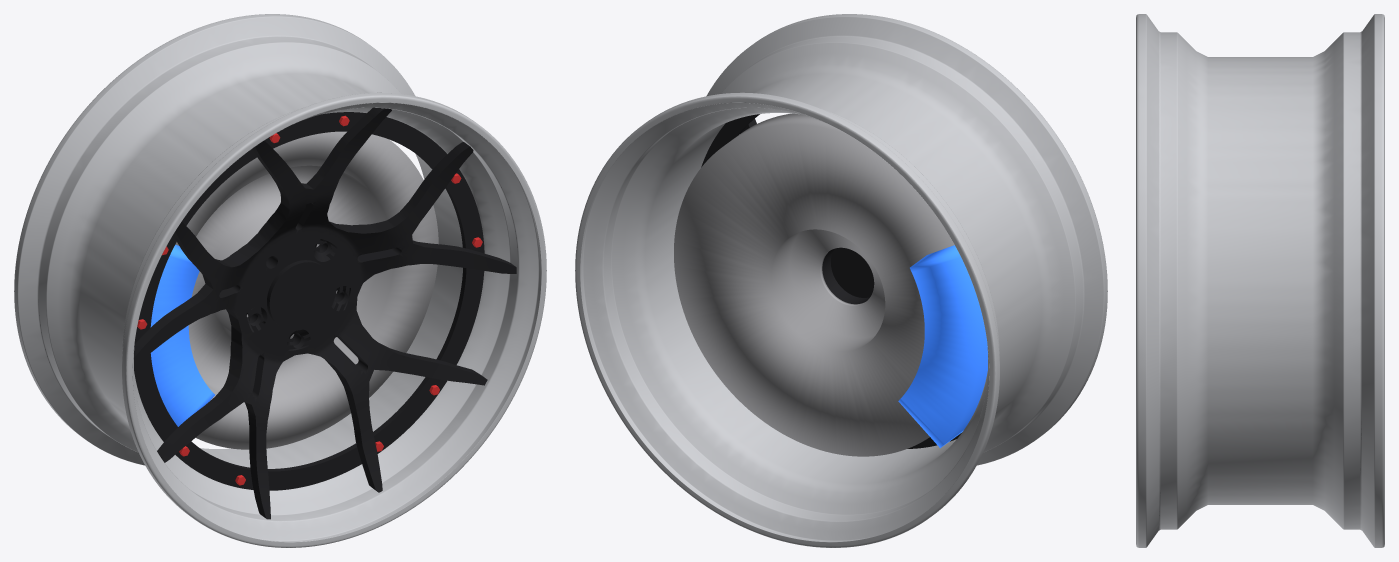
Rendered from stf399-front.glb.
3 renders of one model, left to right at view 1: azimuth 30°, elevation 25°; view 2: azimuth 150°, elevation 25°; view 3: azimuth 270°, elevation 25°, orthographic. The views are drawn at different scales.
Visible parts, largest first — view 1: Rim_Barrel, Rim_Face_Spokes, Brake_Rotor, Brake_Caliper, Hardware_Bolts; view 2: Rim_Barrel, Brake_Rotor, Brake_Caliper, Rim_Face_Spokes; view 3: Rim_Barrel.
Boxes of the visible parts, x1,y1,x2,y2 form: Rim_Barrel: (14, 14, 546, 547); Rim_Face_Spokes: (134, 107, 516, 519); Brake_Rotor: (175, 131, 438, 449); Brake_Caliper: (150, 244, 214, 426); Hardware_Bolts: (137, 115, 482, 485); Rim_Barrel: (575, 14, 1107, 547); Brake_Rotor: (674, 113, 954, 456); Brake_Caliper: (898, 245, 987, 448); Rim_Face_Spokes: (701, 114, 961, 448); Rim_Barrel: (1136, 14, 1384, 547).
Bounding box in the file's own units: 0.5182 × 0.5181 × 0.2413.
